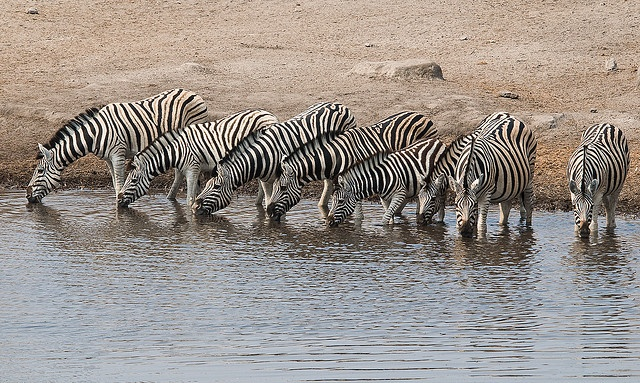zebra: (27, 90, 211, 208), (193, 101, 358, 216), (264, 113, 439, 219), (114, 109, 278, 211), (414, 110, 534, 235), (323, 139, 448, 228), (450, 138, 532, 240), (566, 123, 630, 240)
